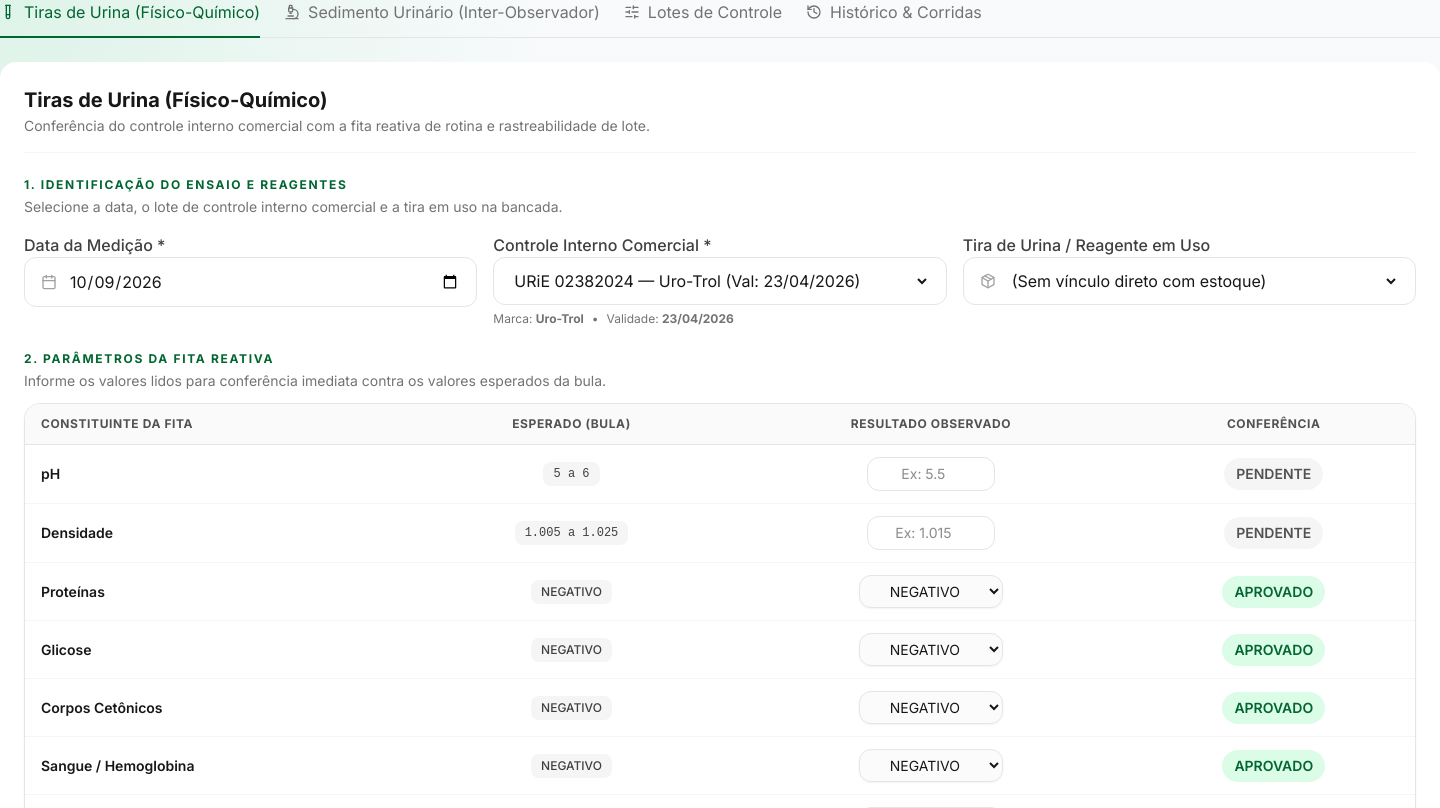
Test: UroanaliseArea › deve alternar para a aba Lotes de Controle e permitir gerenciar os controles
Click the button "Lotes de Controle". click: coordinates (703, 19)
box: [624,0,782,38]
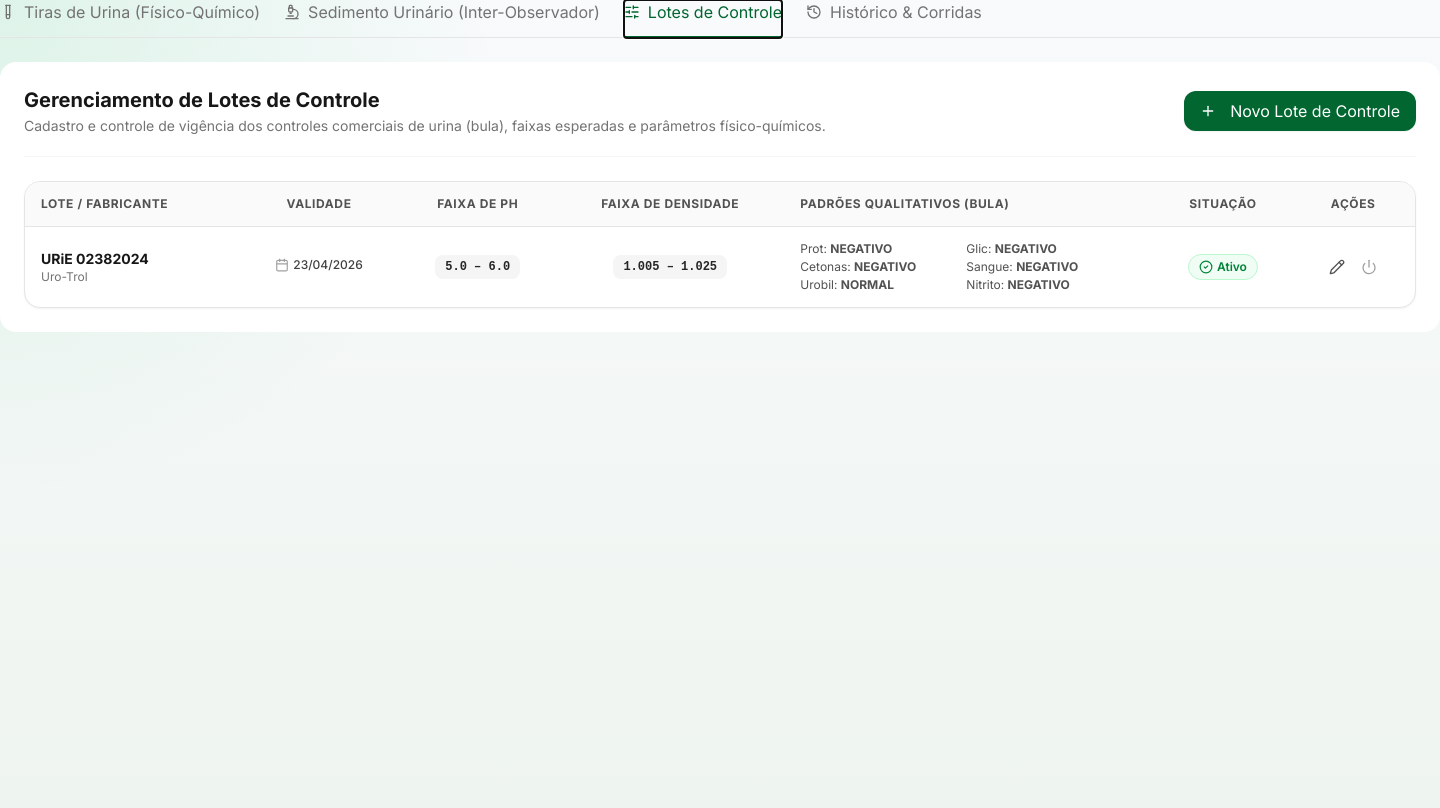
expect the heading "Gerenciamento de Lotes de Controle" is shown: met, box [24,88,380,112]
expect the text "URiE 02382024" is shown: met, box [41,250,149,267]
expect the button "Novo Lote de Controle" is shown: met, box [1184,91,1416,131]
